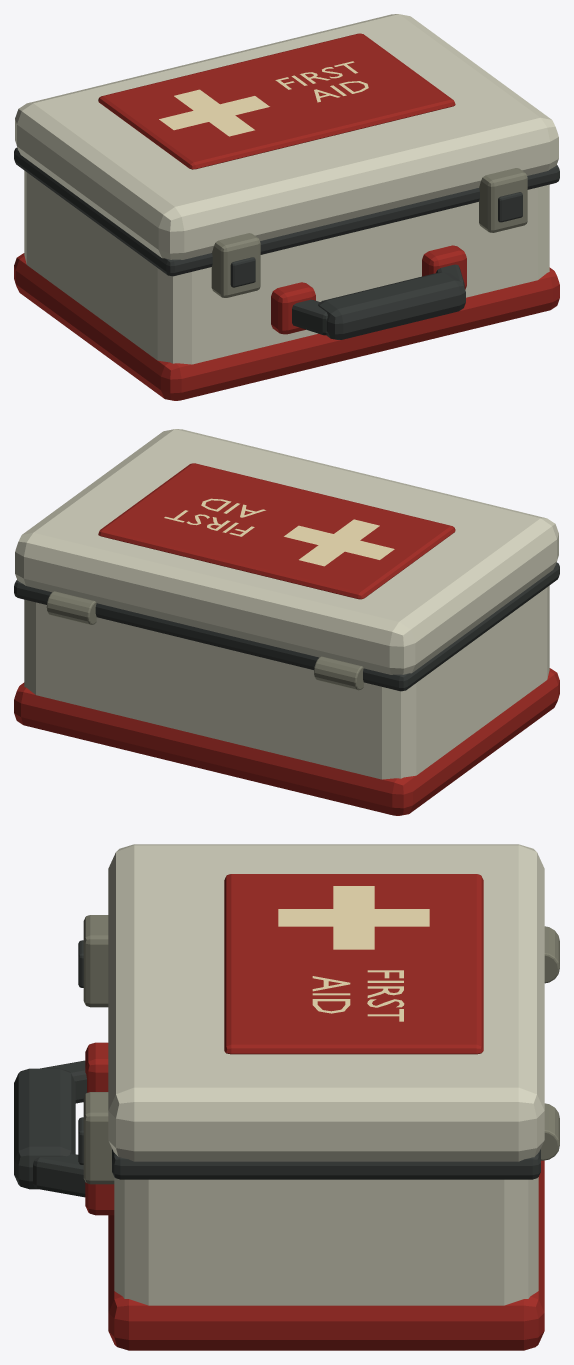
File: DeadRail_First_Aid_Kit.fbx
3 views of the same model, one above another, from view 1: azimuth 30°, elevation 25°; view 2: azimuth 150°, elevation 25°; view 3: azimuth 270°, elevation 25° (orthographic). The views are drawn at different scales.
Visible parts, largest first — view 1: DeadRail_First_Aid_Kit_Mesh; view 2: DeadRail_First_Aid_Kit_Mesh; view 3: DeadRail_First_Aid_Kit_Mesh.
Boxes of the visible parts, bbox=[...] form: DeadRail_First_Aid_Kit_Mesh: bbox=[14, 14, 559, 400]; DeadRail_First_Aid_Kit_Mesh: bbox=[14, 429, 559, 815]; DeadRail_First_Aid_Kit_Mesh: bbox=[14, 844, 559, 1350].
Size of the model in its own units: 0.364 by 0.1722 by 0.318.
